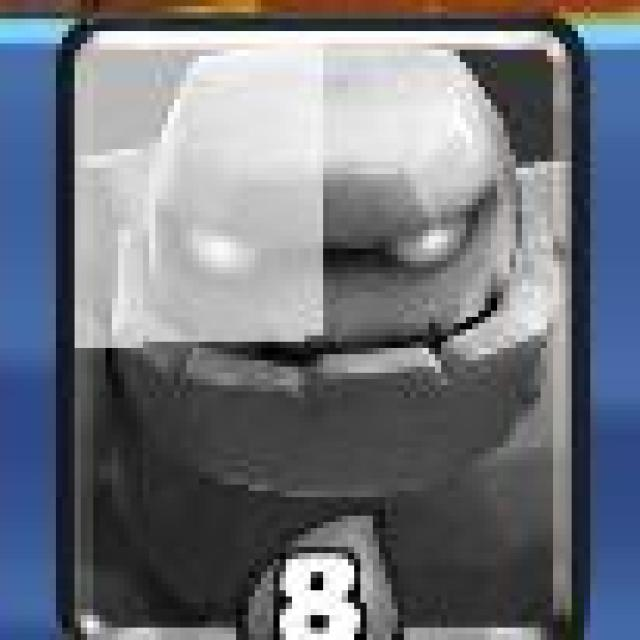Golem: (56, 18, 588, 640)
